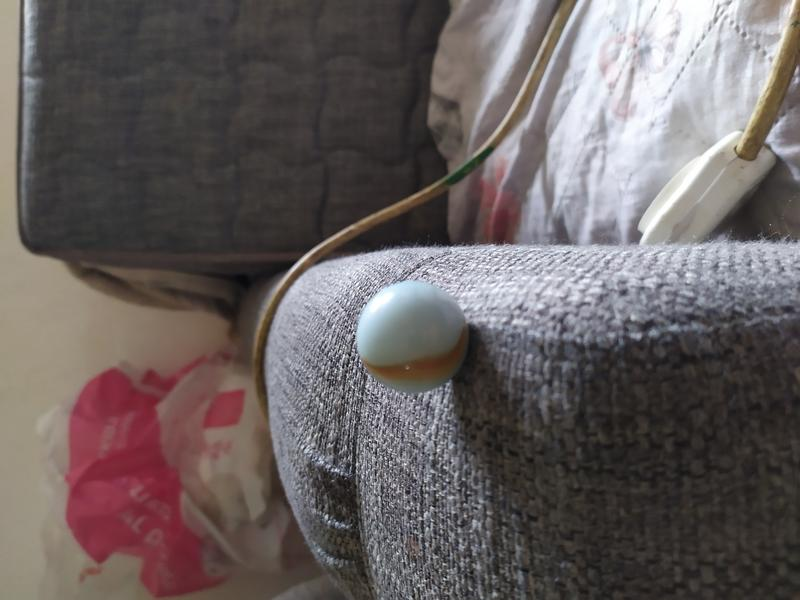Warning: (353, 277, 473, 398)
